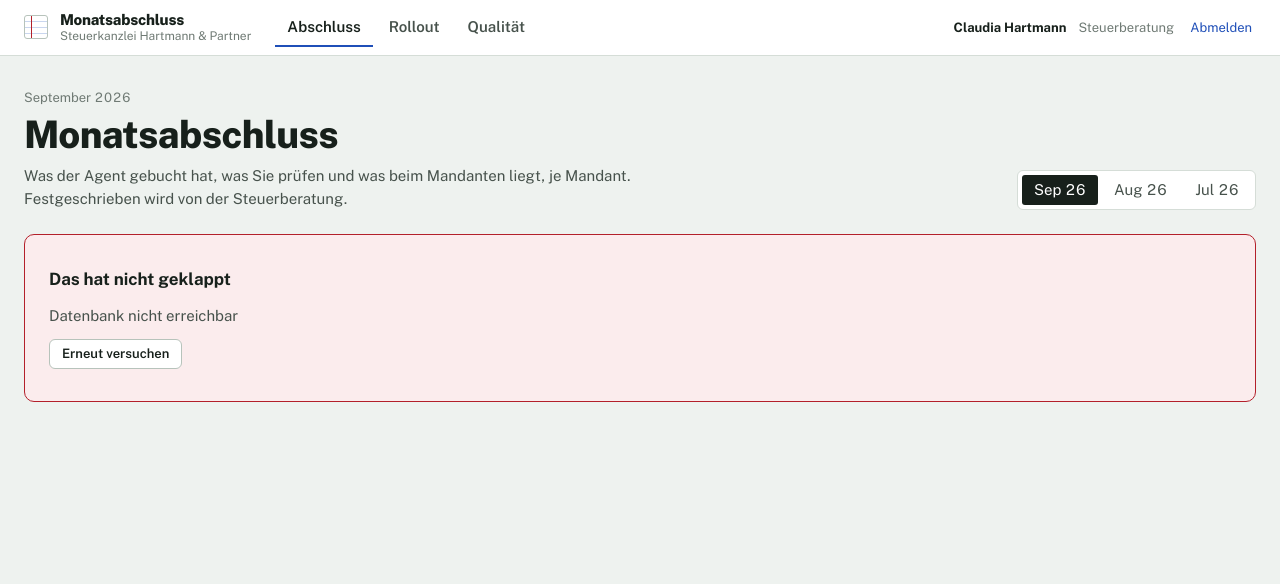
Test: the month board › shows a server error with a retry that recovers
The width and height of the screenshot is (1280, 584).
Expected: the message shows "Datenbank nicht erreichbar", [49,307,238,324]
Click the button "Erneut versuchen" at (116, 354), box [49,339,182,369]
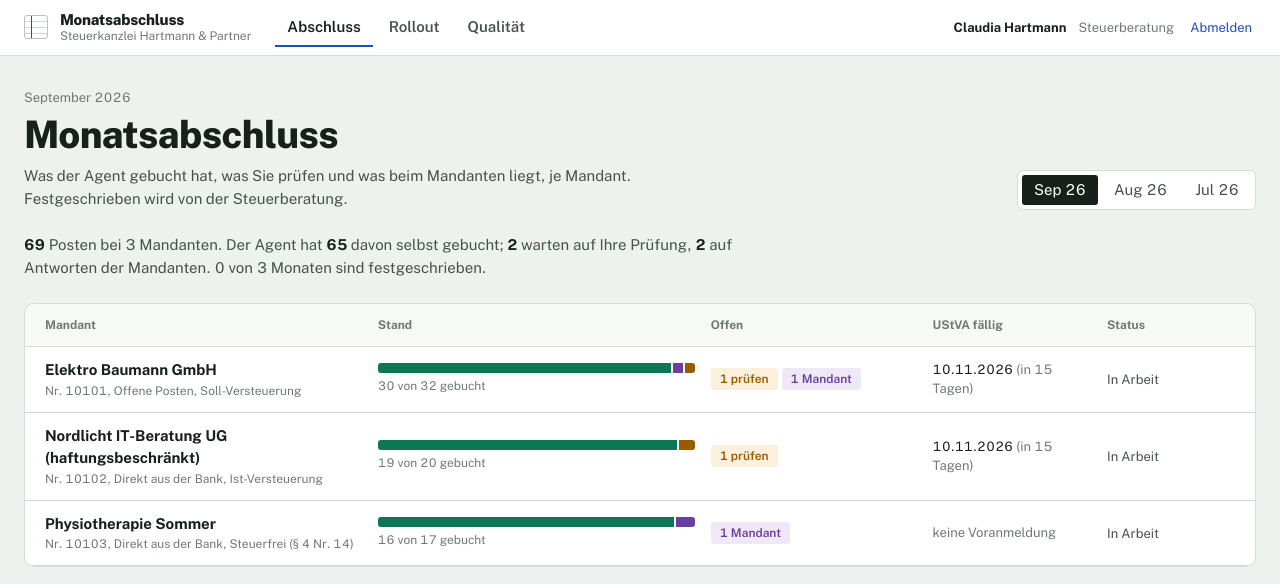
Now the link with aria-label "Elektro Baumann GmbH öffnen" is shown, box [25,347,1255,413]
